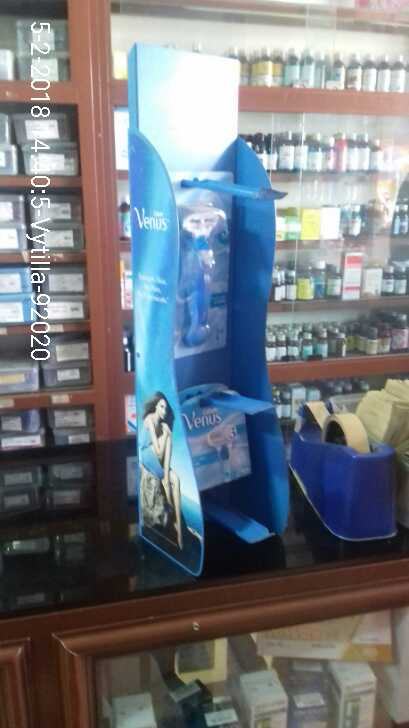venus: (180, 386, 270, 508), (179, 181, 237, 356)
